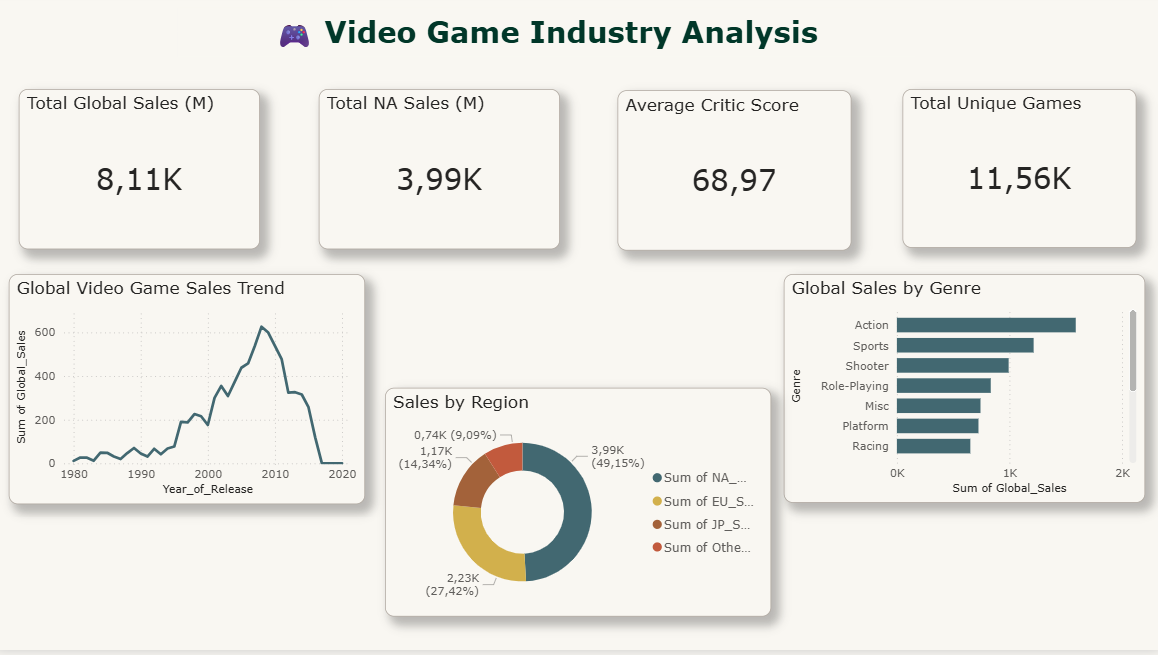

The page's visual inventory and layout, read from the dashboard file:
{"tool":"powerbi","page":{"name":"🎮 Sales Overview","canvas":[1280,720],"ordinal":0},"visuals":[{"type":"card","title":"Total Global Sales (M)","fields":{"Values":["Sum(Video_Games_Sales_as_at_22_Dec_2016.Global_Sales)"]},"box":[26.1,104.3,264.8,175.6],"z":0},{"type":"card","title":"Total NA Sales (M)","fields":{"Values":["Sum(Video_Games_Sales_as_at_22_Dec_2016.NA_Sales)"]},"box":[355.4,104.3,264.8,175.6],"z":1000},{"type":"card","title":"Average Critic Score","fields":{"Values":["Avg(Video_Games_Sales_as_at_22_Dec_2016.Critic_Score)"]},"box":[683.4,105.7,256.6,175.6],"z":2000},{"type":"card","title":"Total Unique Games","fields":{"Values":["Count(Video_Games_Sales_as_at_22_Dec_2016.Name)"]},"box":[996.2,104.3,256.6,174.3],"z":3000},{"type":"lineChart","title":"Global Video Game Sales Trend","fields":{"Category":["Video_Games_Sales_as_at_22_Dec_2016.Year_of_Release"],"Y":["Sum(Video_Games_Sales_as_at_22_Dec_2016.Global_Sales)"]},"box":[15.1,307.4,391.1,252.5],"z":4000},{"type":"clusteredBarChart","title":"Global Sales by Genre","fields":{"Category":["Video_Games_Sales_as_at_22_Dec_2016.Genre"],"Y":["Sum(Video_Games_Sales_as_at_22_Dec_2016.Global_Sales)"]},"box":[865.9,307.4,396.6,251.1],"z":5000},{"type":"donutChart","title":"Sales by Region","fields":{"Y":["Sum(Video_Games_Sales_as_at_22_Dec_2016.NA_Sales)","Sum(Video_Games_Sales_as_at_22_Dec_2016.EU_Sales)","Sum(Video_Games_Sales_as_at_22_Dec_2016.JP_Sales)","Sum(Video_Games_Sales_as_at_22_Dec_2016.Other_Sales)"]},"box":[428.1,432.2,424,251.1],"z":6000},{"type":"textbox","box":[200.3,15.1,809.6,53.5],"z":6001}]}

Visuals, with their boxes in screenshot pixels (x1, y1, x2, y2), scaled from the page's 1280x720 canvas onto the 1158x655 screenshot:
"Total Global Sales (M)" card: box(24, 95, 263, 255)
"Total NA Sales (M)" card: box(322, 95, 561, 255)
"Average Critic Score" card: box(618, 96, 850, 256)
"Total Unique Games" card: box(901, 95, 1133, 253)
"Global Video Game Sales Trend" lineChart: box(14, 280, 367, 509)
"Global Sales by Genre" clusteredBarChart: box(783, 280, 1142, 508)
"Sales by Region" donutChart: box(387, 393, 771, 622)
textbox: box(181, 14, 914, 62)
